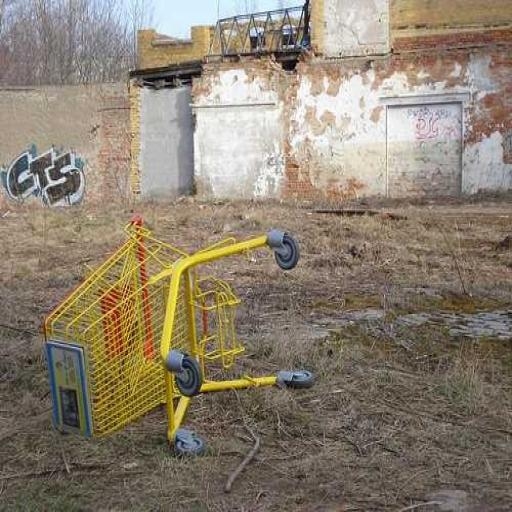shopping_cart: (42, 215, 315, 460)
